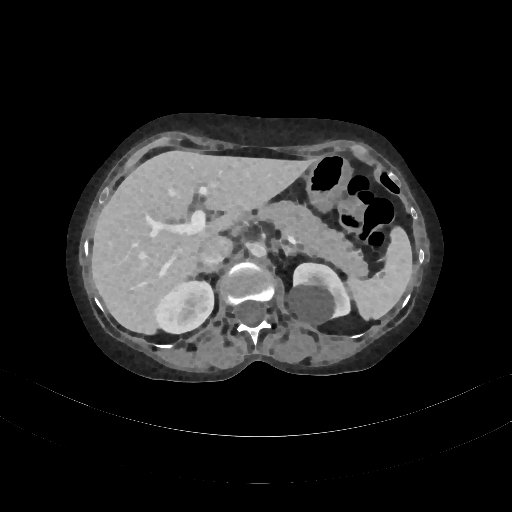Lesion: (284, 279, 340, 329)
